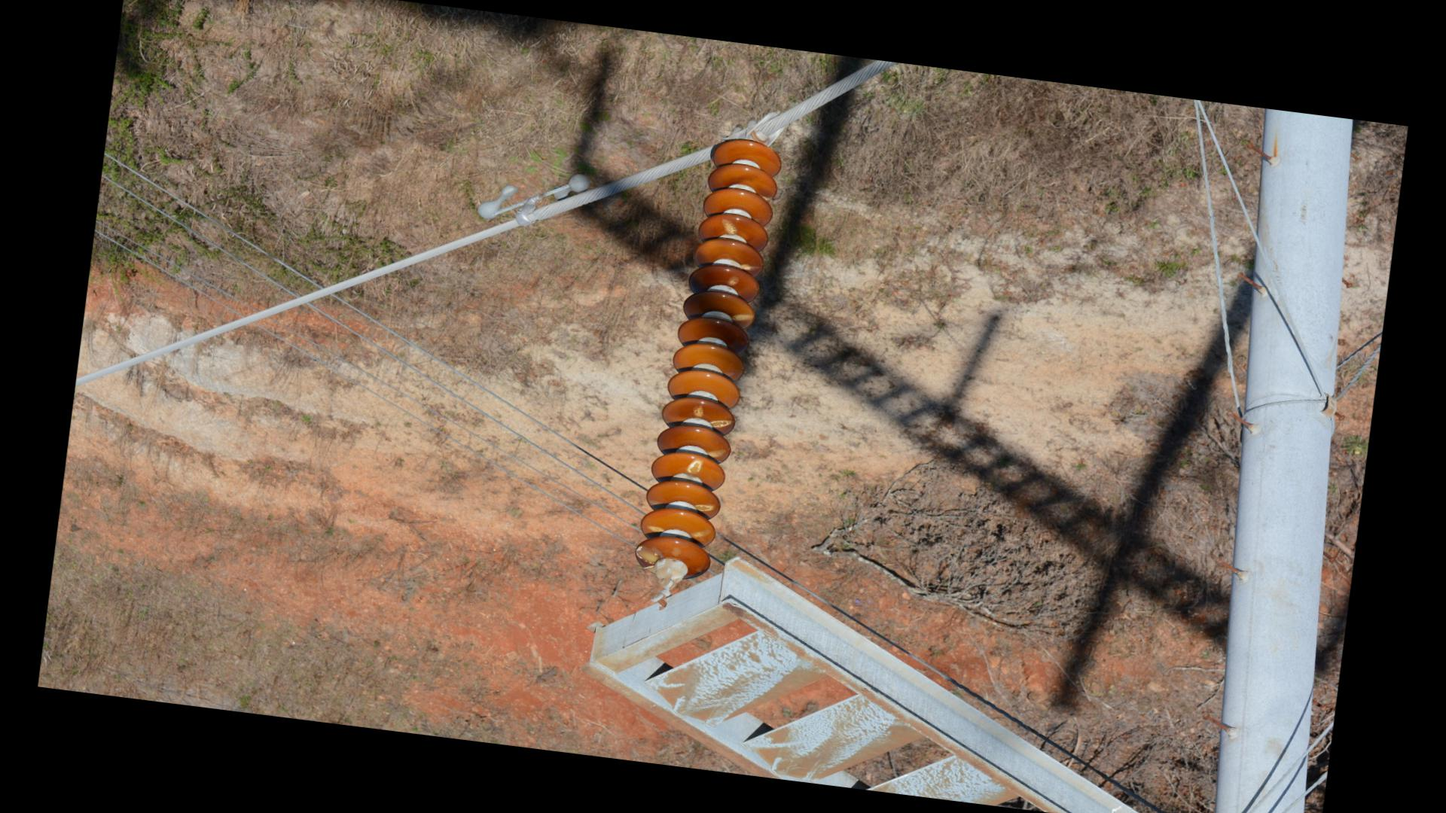damper: (473, 157, 596, 238)
